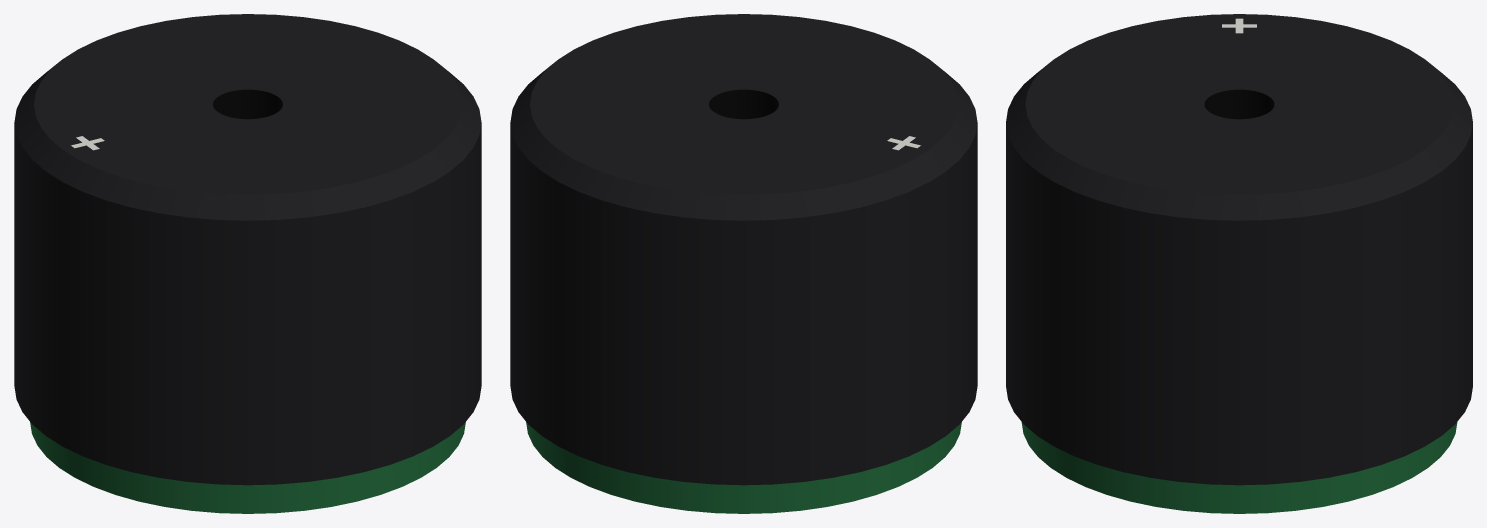
File: passive-buzzer.glb
The picture shows the model from 3 angles, left to right: view 1: azimuth 30°, elevation 25°; view 2: azimuth 150°, elevation 25°; view 3: azimuth 270°, elevation 25°; orthographic projection.
Visible parts, largest first — view 1: body; view 2: body; view 3: body.
Part boxes in pixels (x1,y1,x2,y2): body: [14, 14, 481, 513]; body: [510, 14, 977, 513]; body: [1006, 14, 1472, 513].
Size of the model in its own units: 12 by 9.01 by 12.
